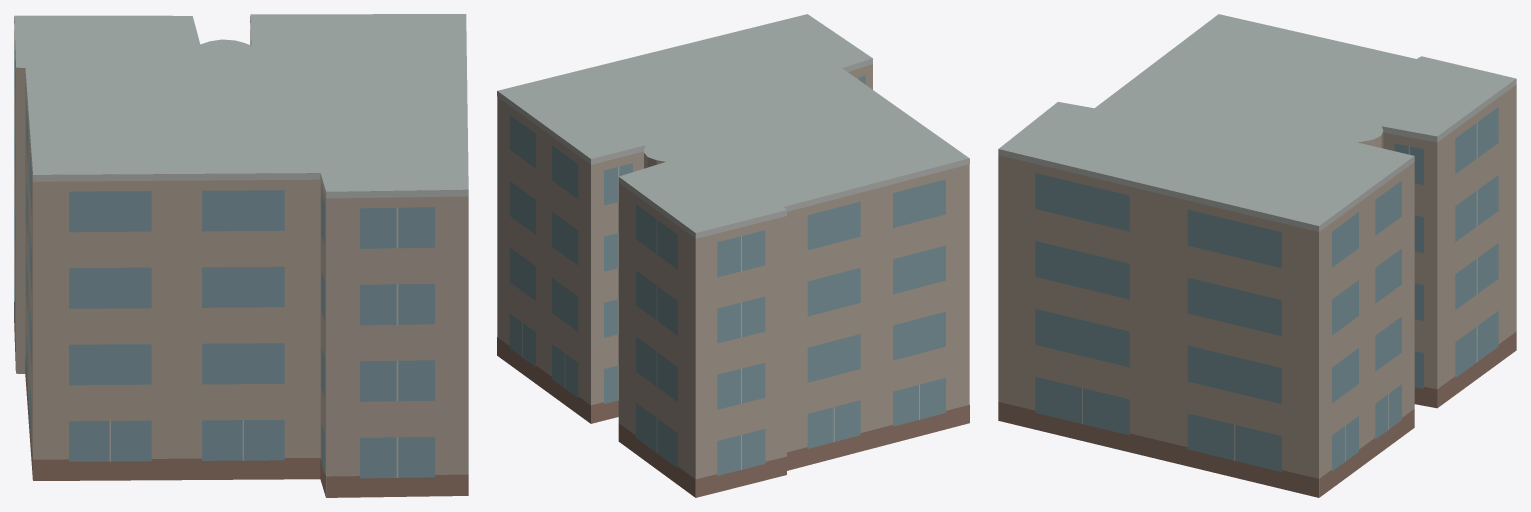
File: survey-upis-32654503.glb
3 views of the same model, side by side, from view 1: azimuth 30°, elevation 25°; view 2: azimuth 150°, elevation 25°; view 3: azimuth 270°, elevation 25° (orthographic). The views are drawn at different scales.
Parts seen in each view (by area): view 1: survey-upis-32654503.tmp; view 2: survey-upis-32654503.tmp; view 3: survey-upis-32654503.tmp.
Boxes of the visible parts, left/top/right/bottom form: survey-upis-32654503.tmp: left=14, top=14, right=468, bottom=497; survey-upis-32654503.tmp: left=497, top=14, right=969, bottom=497; survey-upis-32654503.tmp: left=998, top=14, right=1516, bottom=497.
Size of the model in its own units: 18.59 by 11.1 by 19.19.
